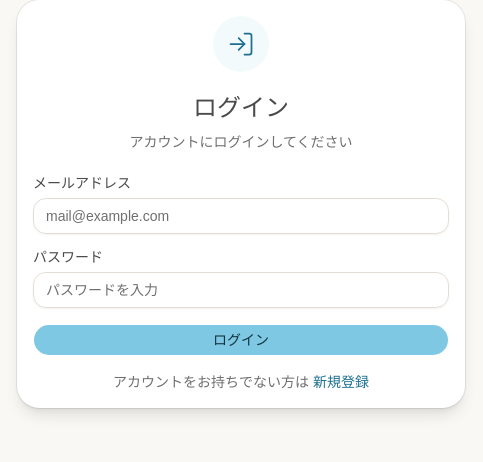
Test: LoginForm › clears field errors on resubmit
Type "test@example.com" into the field labelled "メールアドレス" at x=241, y=216, box [33,198,449,234]
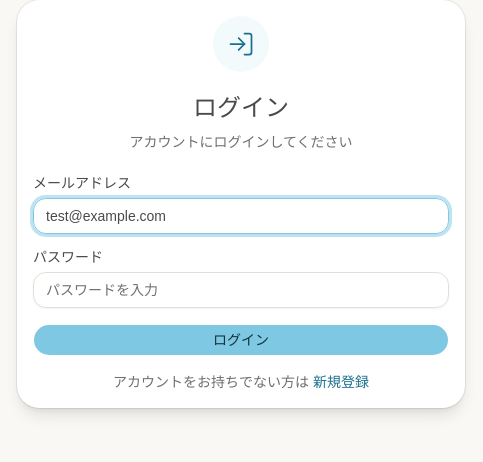
Type "wrongpassword" into the password field labelled "パスワード" at x=241, y=290, box [33,272,449,308]
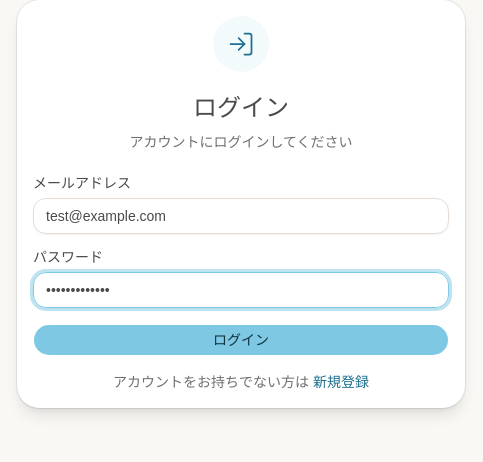
Click the button "ログイン" at x=241, y=340, box [33,324,449,356]
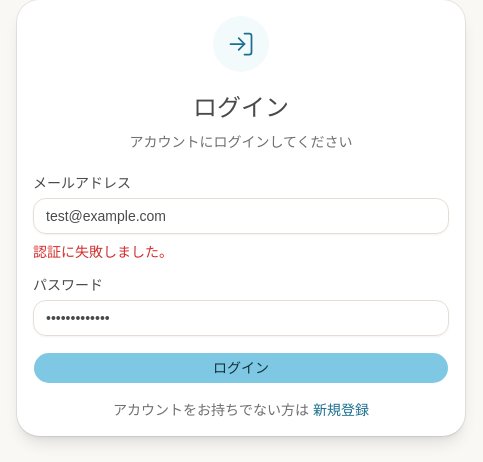
Expected: the text "認証に失敗しました。" is shown, [33,244,173,260]
Click the button "ログイン" at x=241, y=368, box [33,352,449,384]
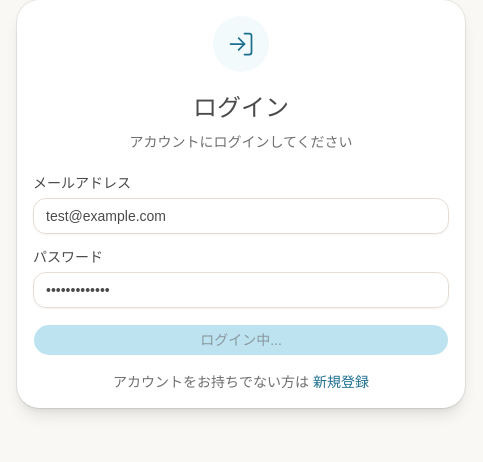
Expected: the text "認証に失敗しました。" is gone
